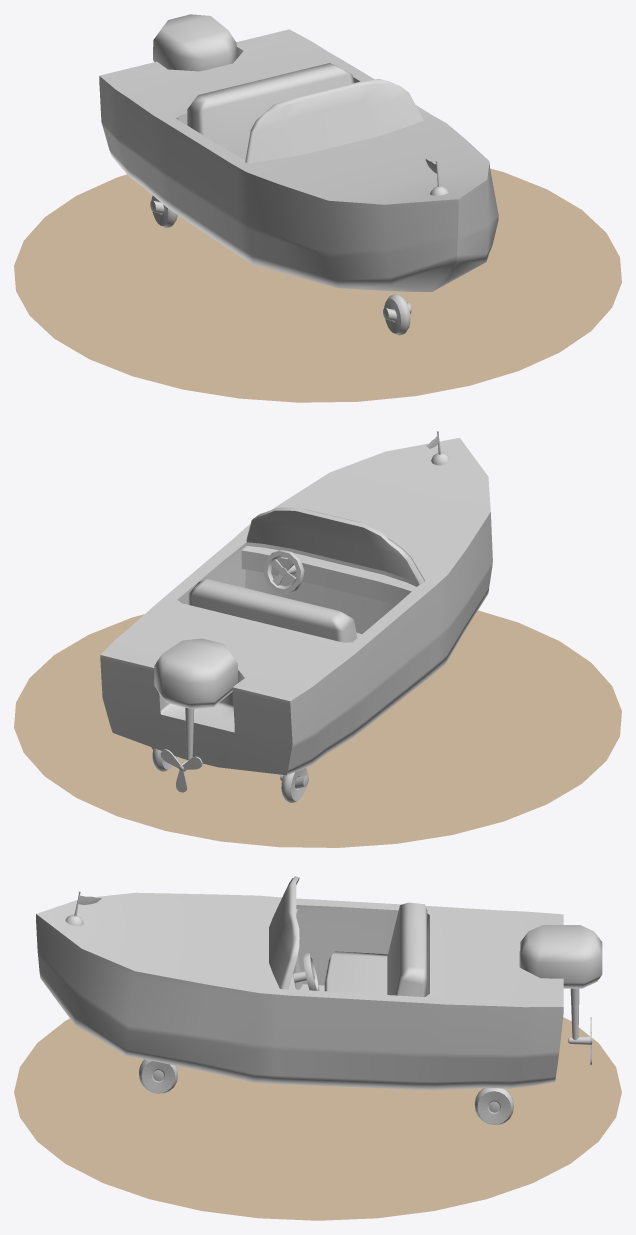
Rendered from coche_manchado.fbx.
3 views of the same model, one above another, from view 1: azimuth 30°, elevation 25°; view 2: azimuth 150°, elevation 25°; view 3: azimuth 270°, elevation 25° (orthographic).
Parts seen in each view (by area): view 1: Círculo, pCylinder10; view 2: pCylinder10, Círculo; view 3: pCylinder10, Círculo.
Part boxes in pixels (bbox=[...]): Círculo: bbox=[14, 168, 621, 402]; pCylinder10: bbox=[99, 14, 498, 335]; pCylinder10: bbox=[100, 431, 492, 802]; Círculo: bbox=[14, 610, 621, 847]; pCylinder10: bbox=[36, 876, 602, 1124]; Círculo: bbox=[14, 1017, 621, 1220].
Bounding box in the file's own units: 362 × 133 × 362.
2 materials, 1 textured.
